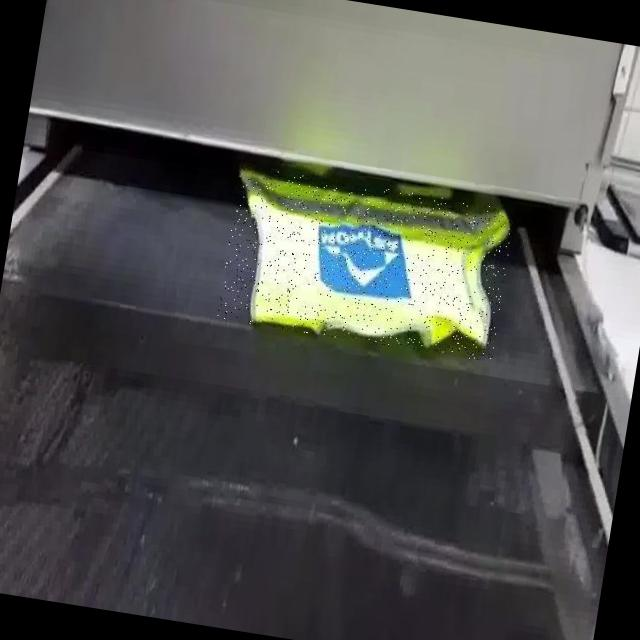safety_vest: (217, 165, 516, 362)
